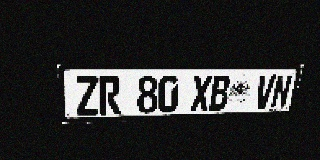0: (158, 76, 179, 113)
8: (137, 76, 159, 113)
B: (209, 75, 231, 111)
N: (270, 75, 293, 108)
R: (98, 76, 121, 115)
V: (253, 75, 276, 109)
X: (190, 75, 212, 111)
Z: (74, 76, 99, 116)
